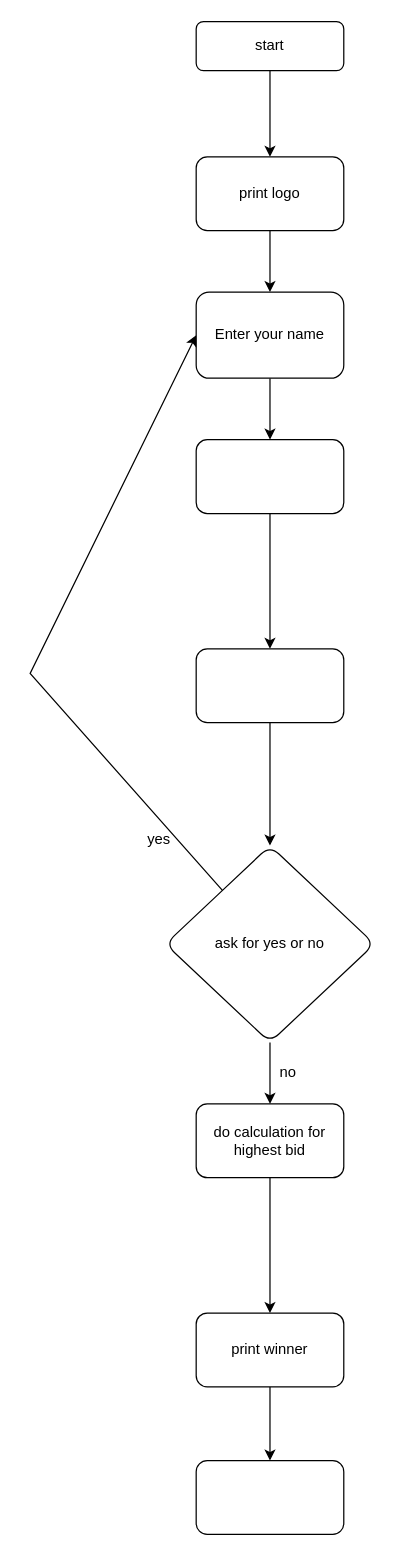
This 396x1556 diagram has some shape labels left out. Each missing label, with the box of its shape:
add it to dictionary: (195, 648, 344, 723)
Enter bidding amount: (195, 438, 344, 514)
stop: (195, 1459, 344, 1534)
